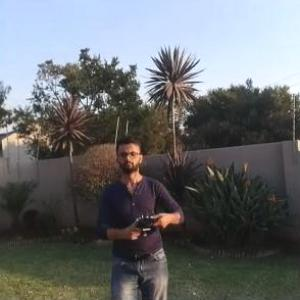follow: (92, 130, 188, 299)
